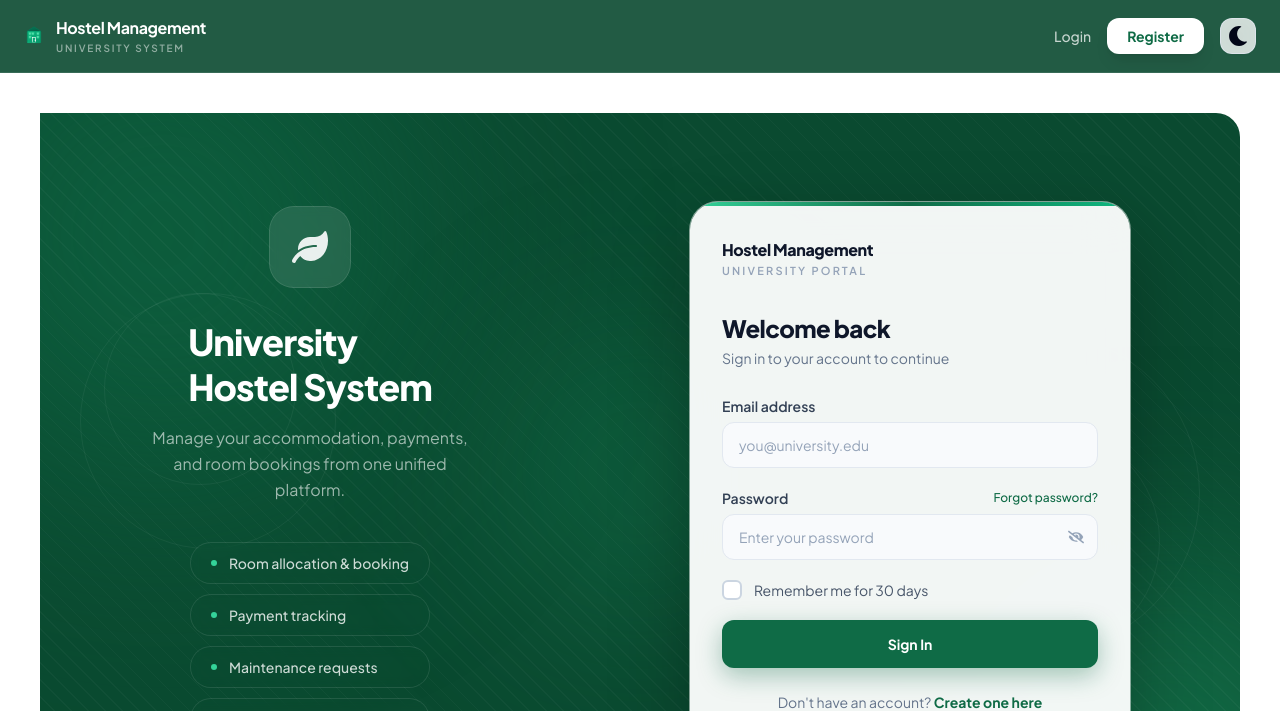
Scenario: LoginPage Component › shows error if login fails
Type "test@uni.edu" into the field labelled "Email address" at (910, 445), box [722, 422, 1098, 468]
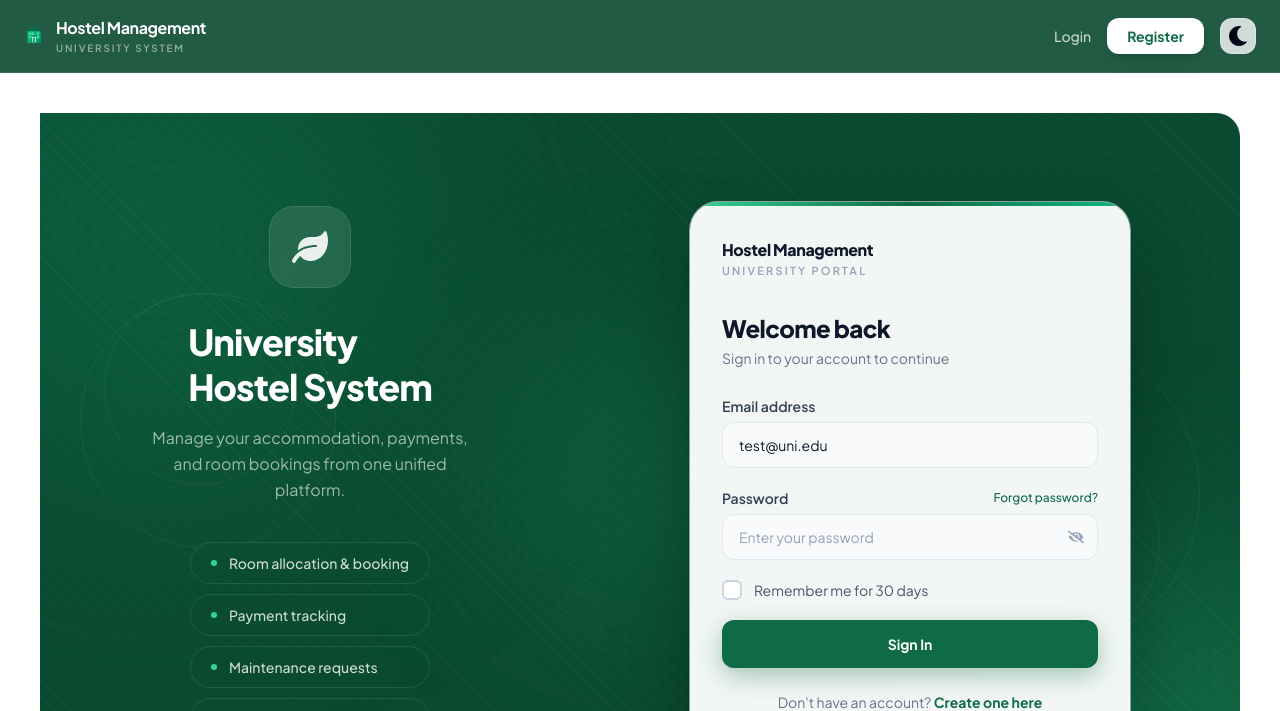
Type "wrongpassword" into the password field labelled "Password" at (910, 537), box [722, 514, 1098, 560]
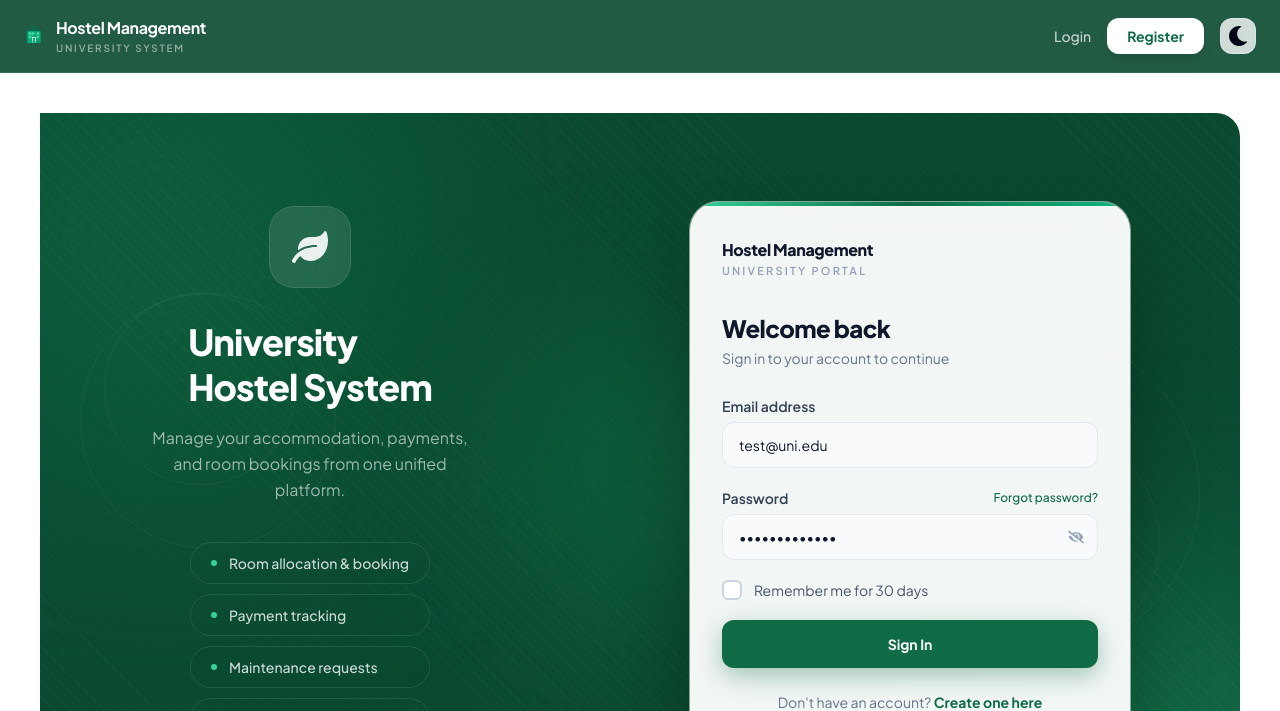
Click the button "Sign In" at (910, 644), box [722, 620, 1098, 668]
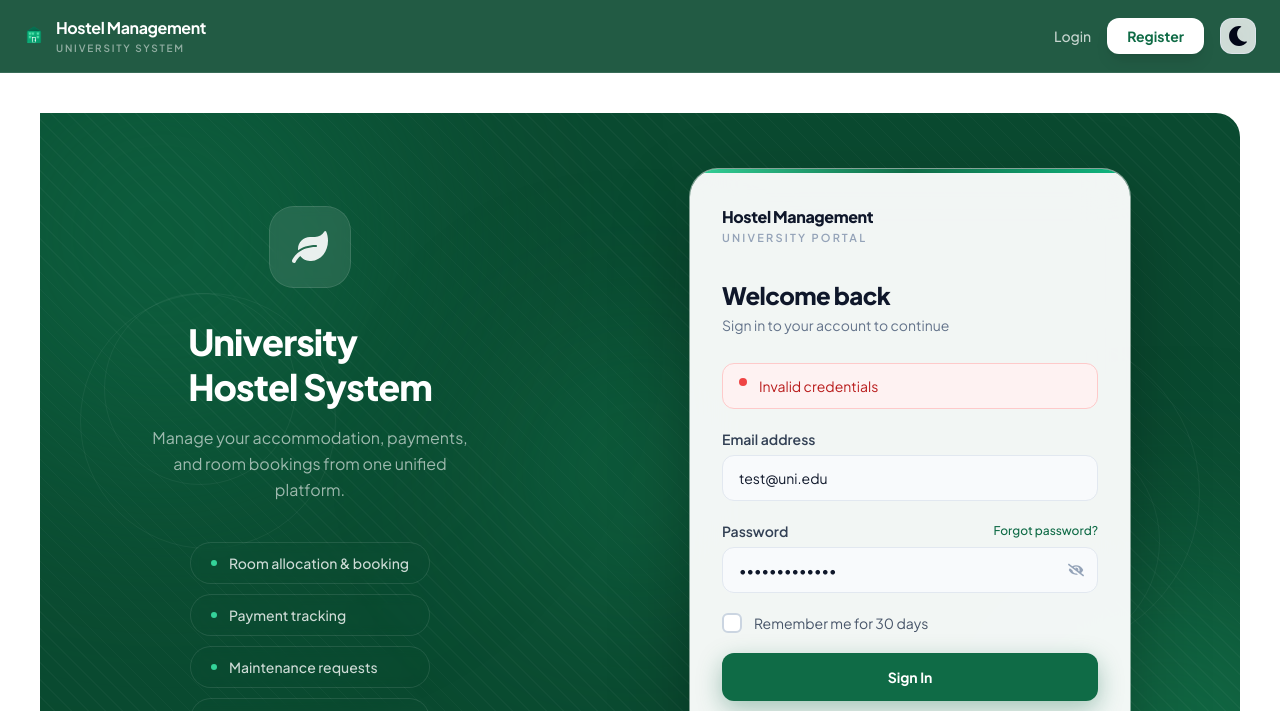
Expected: the text "Invalid credentials" is shown, [759, 376, 878, 396]
